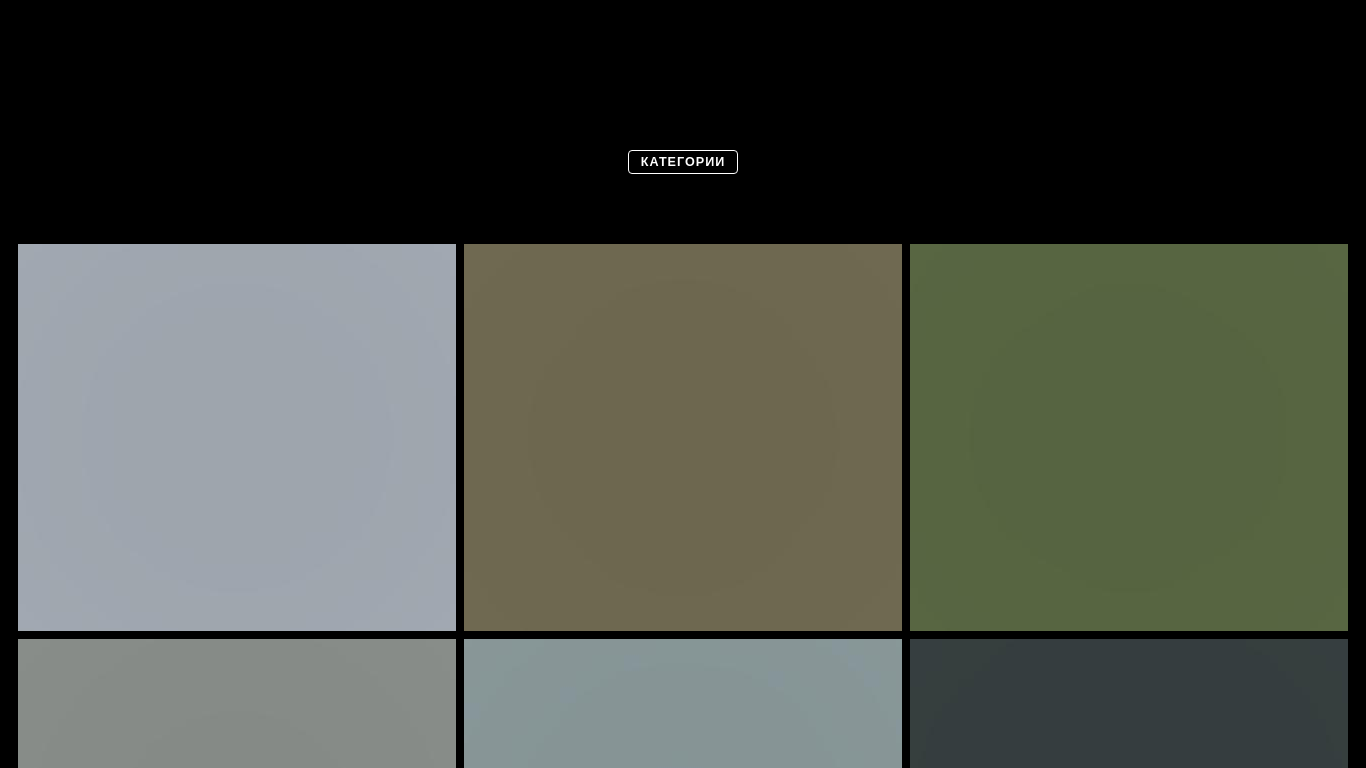
Тестирование работы компонента CategoriesSelector › Должно вывести меню фильтрации работ
Click the button with class "categories__controller": (683, 162) [628,150,738,174]
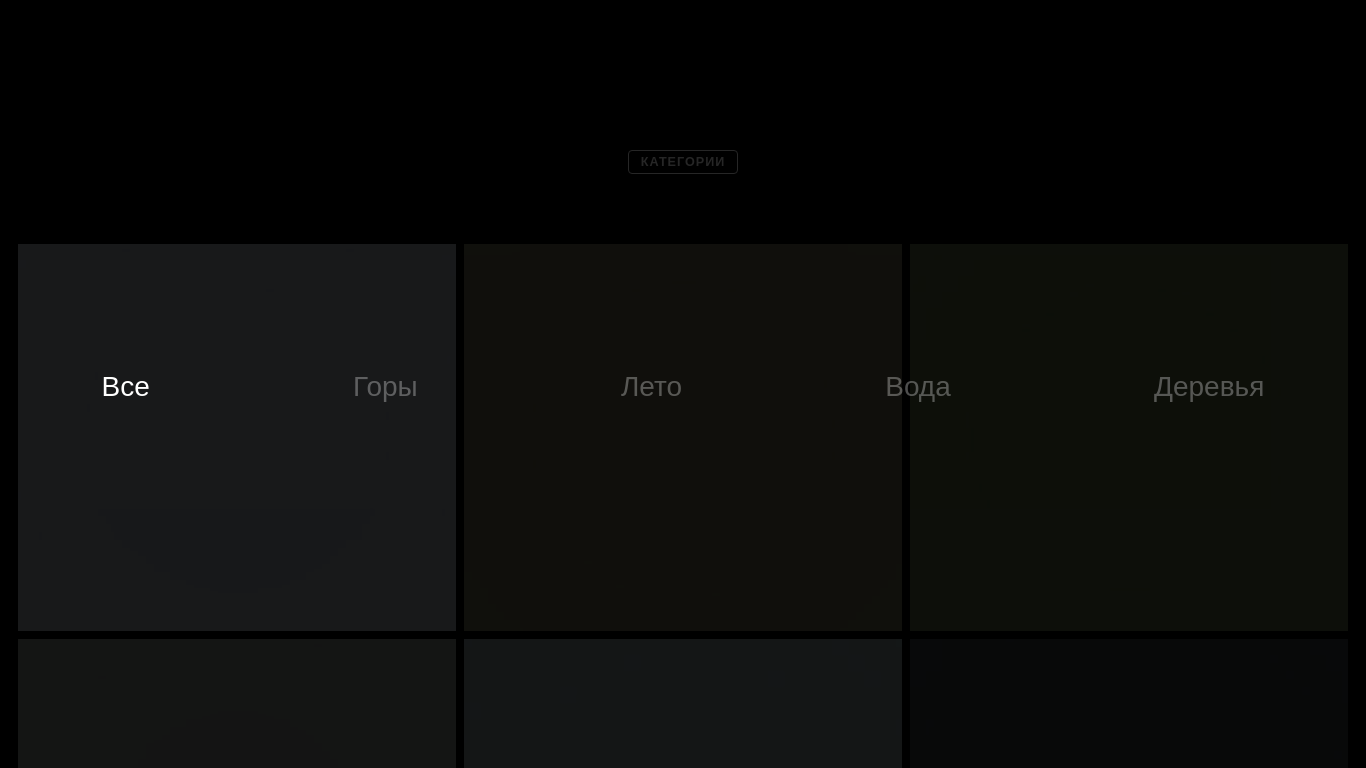
Expected: the number of list items is 5, [102,363,150,405]; [353,363,418,405]; [621,363,682,405]; [885,363,951,405]; [1154,363,1264,405]
